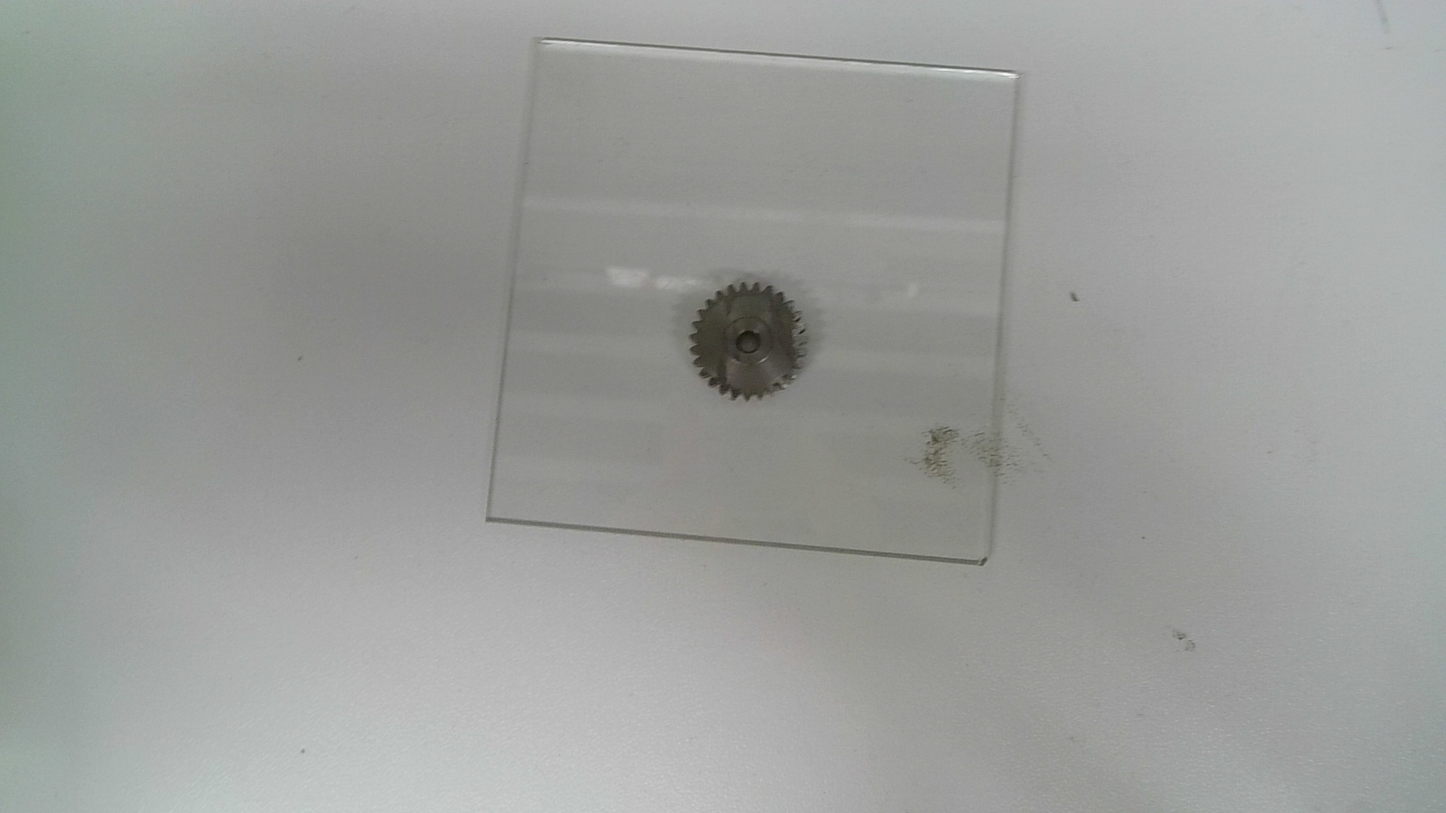gear: (688, 279, 810, 404)
